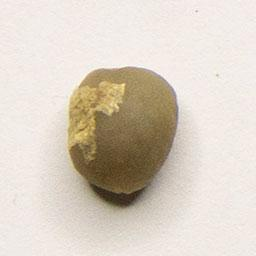peaberry: (63, 62, 182, 201)
